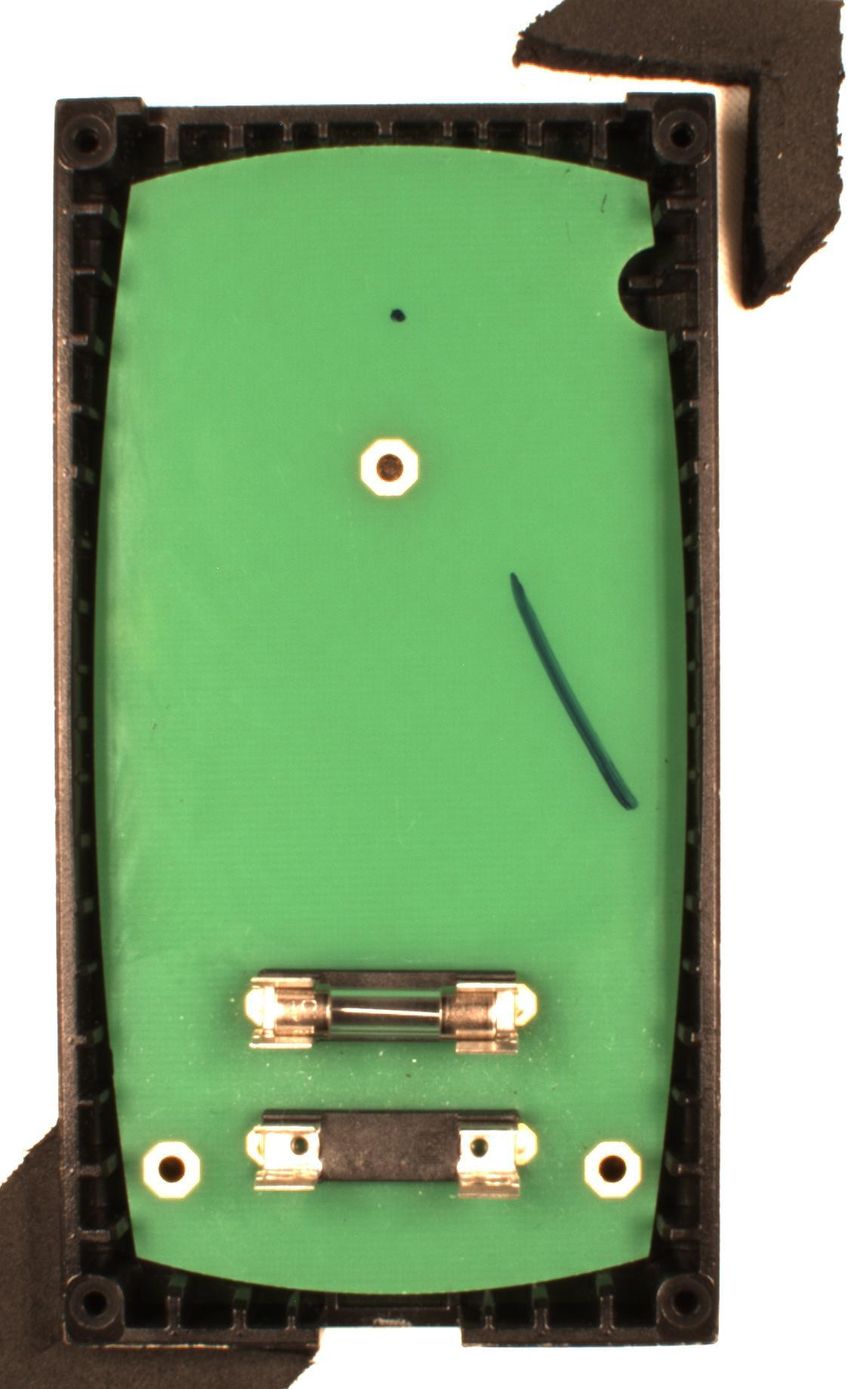Linijsko Ostecene: (506, 568, 640, 815)
Nepostojanje osiguraca: (242, 1105, 540, 1202)
Tockasto Ostecenje: (389, 305, 407, 325)
